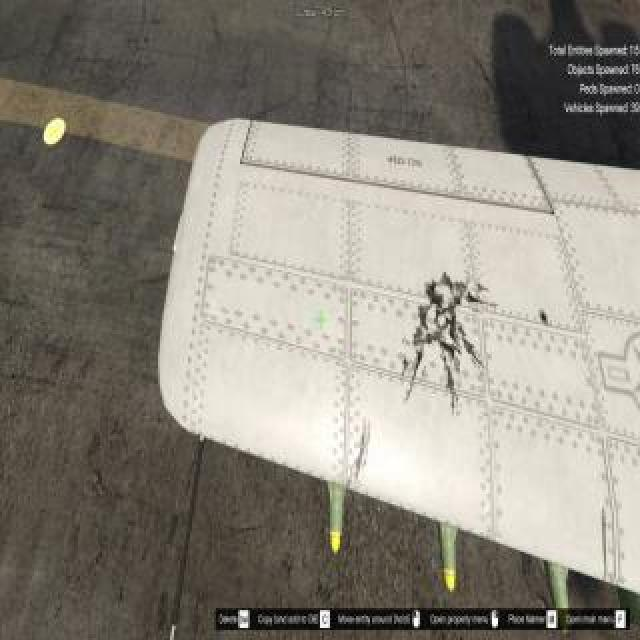crack: (437, 335, 457, 363), (426, 284, 446, 308), (446, 368, 456, 408), (463, 338, 479, 362), (412, 352, 426, 372), (451, 310, 459, 342), (540, 309, 552, 329), (420, 308, 430, 332), (455, 283, 467, 303), (470, 292, 486, 306), (444, 275, 456, 291), (414, 333, 430, 345), (402, 355, 408, 375)
dent: (348, 421, 374, 491)
